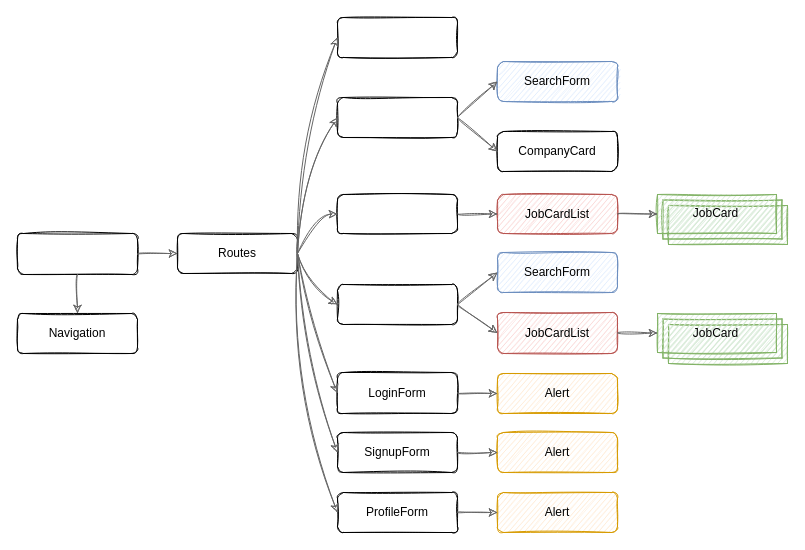
The diagram is 805 pixels wide and 550 high, and some of its shapes have lost their labels. The shapes that lost their labels are listed below. From the top down, each one's box as (x1, y1, x2, y2) in pixels, then its label:
(336, 16, 458, 58): Homepage
(336, 96, 458, 138): CompanyList
(336, 194, 458, 234): CompanyDetail
(16, 232, 138, 274): App
(336, 284, 458, 324): JobList
